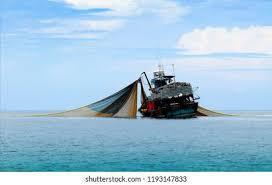Ship: (137, 64, 205, 121)
